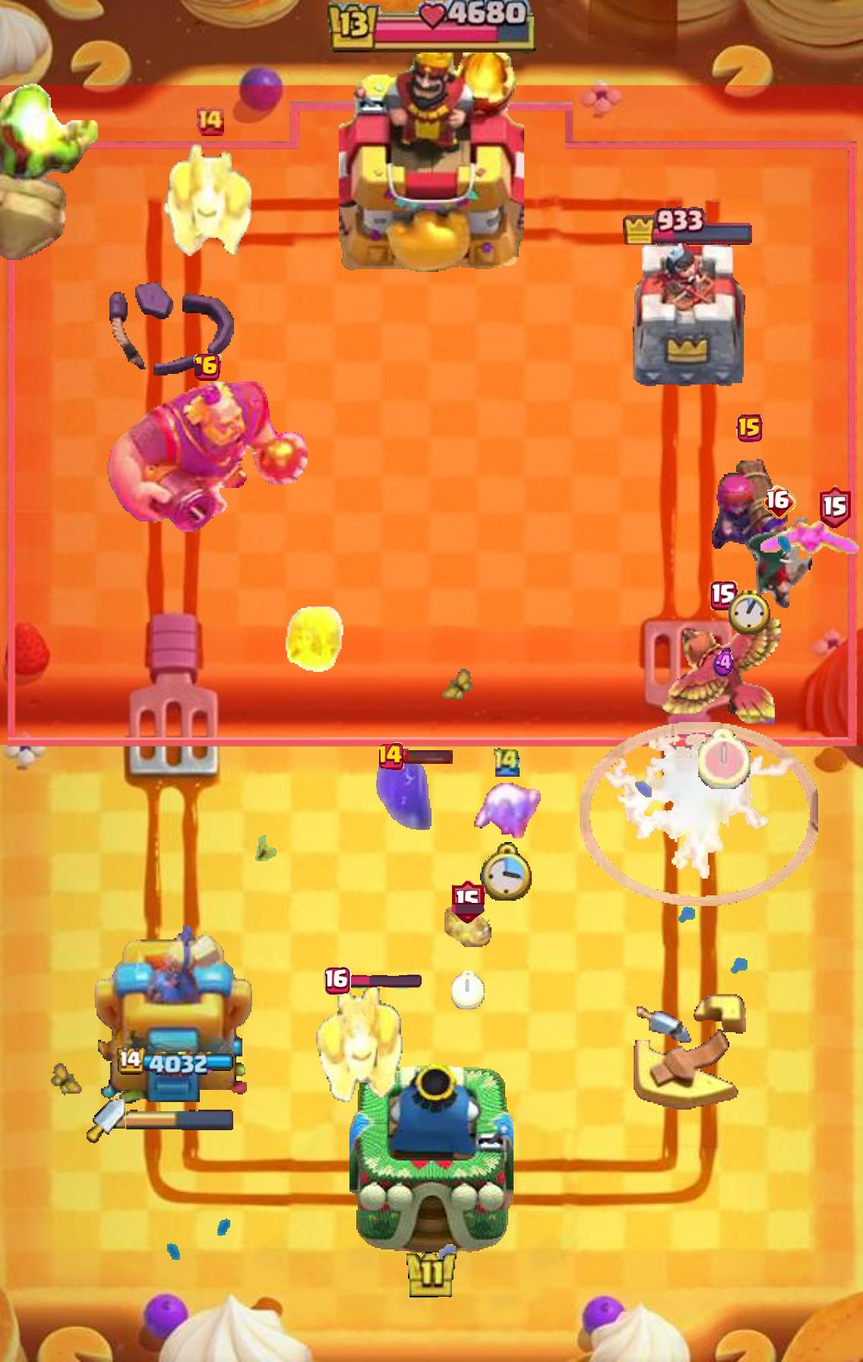bar: (348, 974, 421, 989), (400, 748, 454, 765)
bar-level: (450, 880, 485, 924), (819, 485, 851, 529), (762, 485, 797, 519), (194, 106, 225, 137), (710, 581, 738, 611), (323, 967, 351, 996), (194, 354, 222, 382), (378, 742, 404, 771), (736, 415, 762, 443)
